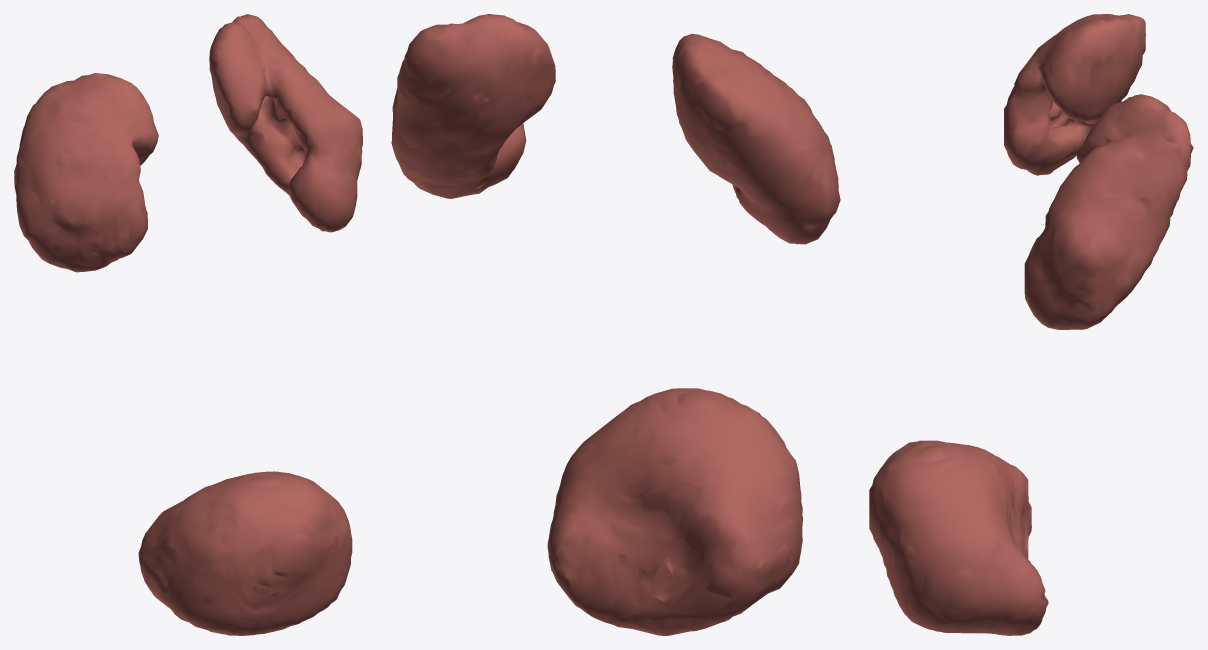
The model's file is tsd_s0196_older_adult_female.urinary.LOD2.glb.
The picture shows the model from 3 angles, left to right: view 1: azimuth 30°, elevation 25°; view 2: azimuth 150°, elevation 25°; view 3: azimuth 270°, elevation 25°; orthographic projection. The views are drawn at different scales.
Parts seen in each view (by area): view 1: TSD_S0196.OLDER_ADULT.FEMALE.URINARY.URINARY_BLADDER, TSD_S0196.OLDER_ADULT.FEMALE.URINARY.KIDNEY.R, TSD_S0196.OLDER_ADULT.FEMALE.URINARY.KIDNEY.L; view 2: TSD_S0196.OLDER_ADULT.FEMALE.URINARY.URINARY_BLADDER, TSD_S0196.OLDER_ADULT.FEMALE.URINARY.KIDNEY.L, TSD_S0196.OLDER_ADULT.FEMALE.URINARY.KIDNEY.R; view 3: TSD_S0196.OLDER_ADULT.FEMALE.URINARY.URINARY_BLADDER, TSD_S0196.OLDER_ADULT.FEMALE.URINARY.KIDNEY.L, TSD_S0196.OLDER_ADULT.FEMALE.URINARY.KIDNEY.R.
Boxes of the visible parts, x1,y1,x2,y2 form: TSD_S0196.OLDER_ADULT.FEMALE.URINARY.URINARY_BLADDER: (138, 471, 352, 635); TSD_S0196.OLDER_ADULT.FEMALE.URINARY.KIDNEY.R: (14, 73, 158, 272); TSD_S0196.OLDER_ADULT.FEMALE.URINARY.KIDNEY.L: (209, 14, 362, 232); TSD_S0196.OLDER_ADULT.FEMALE.URINARY.URINARY_BLADDER: (547, 388, 802, 635); TSD_S0196.OLDER_ADULT.FEMALE.URINARY.KIDNEY.L: (391, 14, 555, 198); TSD_S0196.OLDER_ADULT.FEMALE.URINARY.KIDNEY.R: (672, 34, 840, 244); TSD_S0196.OLDER_ADULT.FEMALE.URINARY.URINARY_BLADDER: (869, 440, 1048, 635); TSD_S0196.OLDER_ADULT.FEMALE.URINARY.KIDNEY.L: (1024, 94, 1193, 329); TSD_S0196.OLDER_ADULT.FEMALE.URINARY.KIDNEY.R: (1004, 14, 1145, 175).
Size of the model in its own units: 0.1832 by 0.2715 by 0.141.
